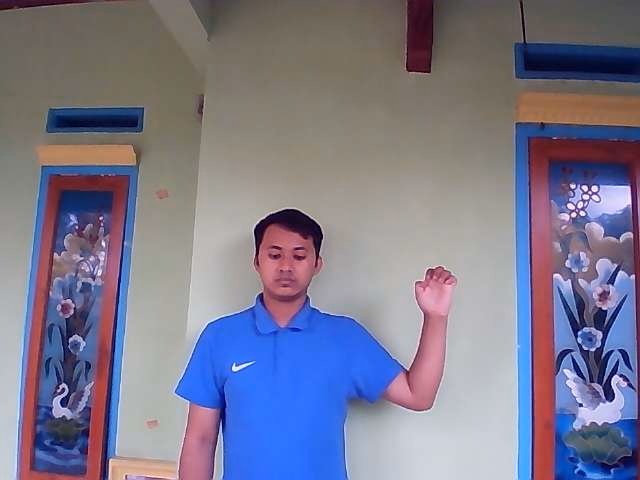E: (413, 265, 458, 319)
